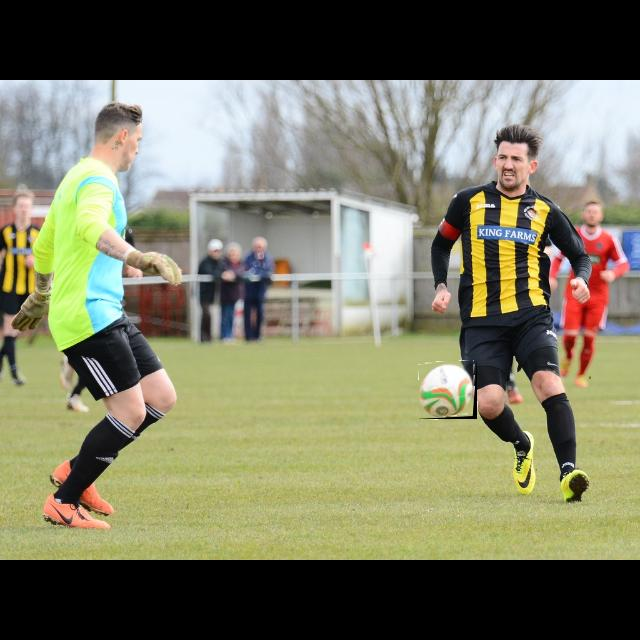Football: (419, 361, 477, 419)
